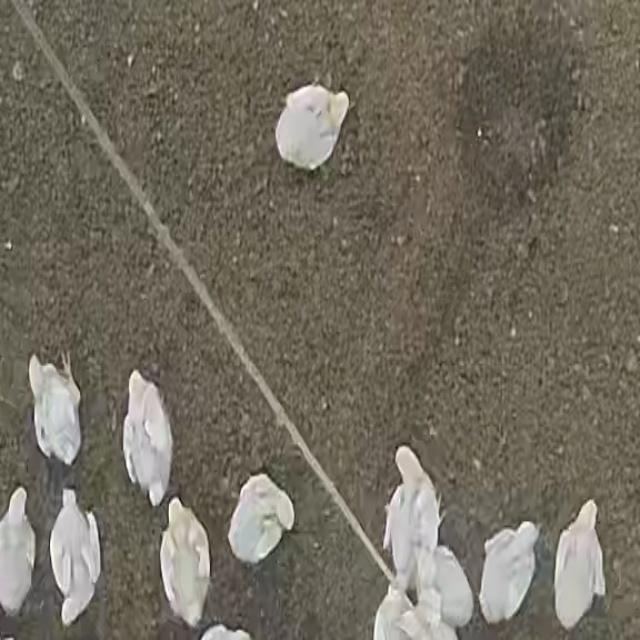chicken: (389, 439, 448, 583), (551, 499, 607, 626), (158, 495, 214, 621), (50, 484, 99, 622), (411, 527, 477, 628), (29, 355, 89, 462), (228, 477, 305, 559), (277, 83, 346, 172), (481, 517, 537, 625), (124, 371, 170, 499), (0, 485, 36, 623)
